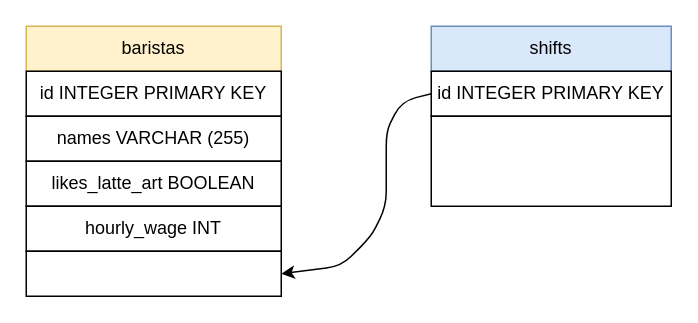
Image size: 698x323. Some labels were removed from this diagram. The centre of each missing label's shape, as x and y in pixels:
"shift_id INT" goes at pixel 153 273.
"work_shift VARCHAR (255)" goes at pixel 550 160.
